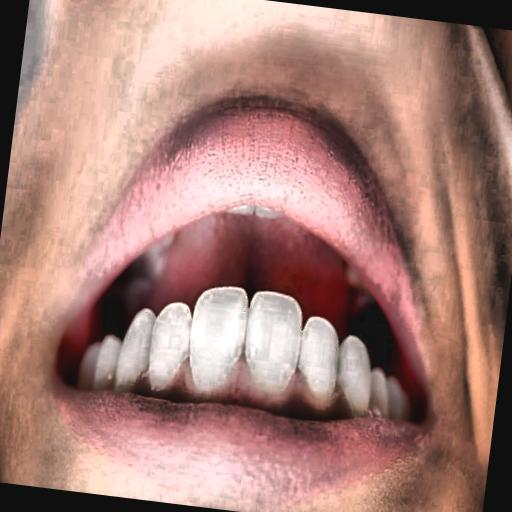Healthy: (22, 107, 489, 512)
